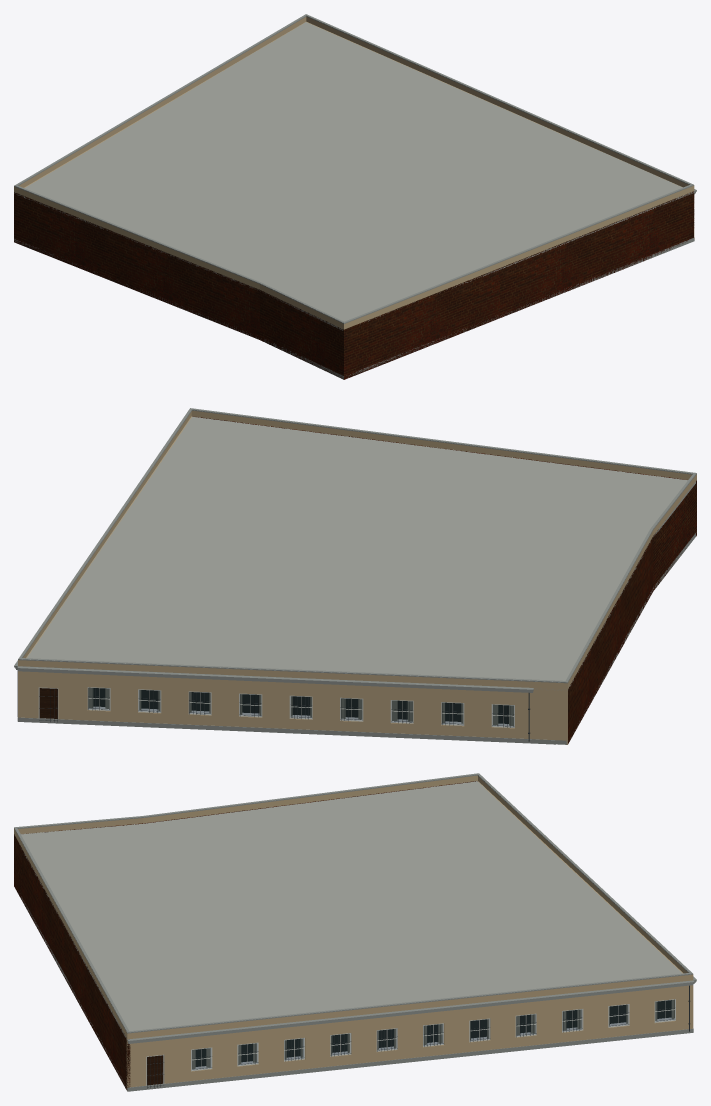
The model's file is building.glb.
3 views of the same model, one above another, from view 1: azimuth 30°, elevation 25°; view 2: azimuth 150°, elevation 25°; view 3: azimuth 270°, elevation 25° (orthographic). The views are drawn at different scales.
Parts seen in each view (by area): view 1: roof/main:0/roof_slab#0001, main:0/edge0/z0/main:0/edge0/z0/wall_0_0, main:0/edge4/z0/main:0/edge4/z0/wall_0_0/core0, roof/main:0/parapet#0001, main:0/edge3/z0/main:0/edge3/z0/wall_0_0, main:0/edge1/z0/main:0/edge1/z0/wall_0_0/core0, roof/main:0/parapet_cap#0002, roof/main:0/parapet_cap#0001, main:0/edge2/z0/main:0/edge2/z0/wall_0_0/core0; view 2: roof/main:0/roof_slab#0001, main:0/edge6/z0/main:0/edge6/z0/wall_0_0/core0, roof/main:0/parapet#0001, main:0/edge0/z0/main:0/edge0/z0/wall_0_0, roof/main:0/parapet_cap#0002, main:0/edge6/z0/plinth#0001, roof/main:0/parapet_cap#0001, main:0/edge1/z0/main:0/edge1/z0/wall_0_0/core0, main:0/edge7/z0/main:0/edge7/z0/wall_0_0, main:0/edge6/z0/proj_cornice_00/cornice_drip#0001, main:0/edge6/z0/proj_cornice_00/cornice_step#0003, main:0/edge6/z0/proj_cornice_00/cornice_step#0001 (+1 smaller); view 3: roof/main:0/roof_slab#0001, roof/main:0/parapet#0001, main:0/edge5/z0/main:0/edge5/z0/wall_0_0/clip29, main:0/edge5/z0/main:0/edge5/z0/wall_0_0/clip3, roof/main:0/parapet_cap#0002, main:0/edge4/z0/main:0/edge4/z0/wall_0_0/core0, main:0/edge5/z0/plinth#0001, main:0/edge3/z0/main:0/edge3/z0/wall_0_0, roof/main:0/parapet_cap#0001, main:0/edge5/z0/proj_cornice_00/cornice_drip#0001, main:0/edge5/z0/proj_cornice_00/cornice_step#0003, main:0/edge5/z0/proj_cornice_00/cornice_step#0001 (+12 smaller).
Part boxes in pixels (bbox=[...]): roof/main:0/roof_slab#0001: bbox=[14, 22, 693, 330]; main:0/edge0/z0/main:0/edge0/z0/wall_0_0: bbox=[14, 192, 259, 339]; main:0/edge4/z0/main:0/edge4/z0/wall_0_0/core0: bbox=[500, 191, 694, 317]; roof/main:0/parapet#0001: bbox=[14, 16, 694, 329]; main:0/edge3/z0/main:0/edge3/z0/wall_0_0: bbox=[368, 268, 499, 369]; main:0/edge1/z0/main:0/edge1/z0/wall_0_0/core0: bbox=[260, 290, 343, 378]; roof/main:0/parapet_cap#0002: bbox=[14, 14, 693, 323]; roof/main:0/parapet_cap#0001: bbox=[14, 16, 694, 323]; main:0/edge2/z0/main:0/edge2/z0/wall_0_0/core0: bbox=[344, 320, 368, 379]; roof/main:0/roof_slab#0001: bbox=[23, 416, 695, 690]; main:0/edge6/z0/main:0/edge6/z0/wall_0_0/core0: bbox=[19, 671, 533, 739]; roof/main:0/parapet#0001: bbox=[18, 410, 696, 689]; main:0/edge0/z0/main:0/edge0/z0/wall_0_0: bbox=[568, 537, 653, 743]; roof/main:0/parapet_cap#0002: bbox=[18, 408, 696, 682]; main:0/edge6/z0/plinth#0001: bbox=[18, 717, 533, 743]; roof/main:0/parapet_cap#0001: bbox=[18, 409, 696, 683]; main:0/edge1/z0/main:0/edge1/z0/wall_0_0/core0: bbox=[653, 484, 695, 590]; main:0/edge7/z0/main:0/edge7/z0/wall_0_0: bbox=[533, 688, 567, 744]; main:0/edge6/z0/proj_cornice_00/cornice_drip#0001: bbox=[17, 666, 533, 690]; main:0/edge6/z0/proj_cornice_00/cornice_step#0003: bbox=[17, 669, 533, 691]; main:0/edge6/z0/proj_cornice_00/cornice_step#0001: bbox=[18, 670, 532, 692]; roof/main:0/roof_slab#0001: bbox=[19, 781, 682, 1039]; roof/main:0/parapet#0001: bbox=[14, 775, 693, 1039]; main:0/edge5/z0/main:0/edge5/z0/wall_0_0/clip29: bbox=[127, 980, 693, 1055]; main:0/edge5/z0/main:0/edge5/z0/wall_0_0/clip3: bbox=[164, 1019, 693, 1083]; roof/main:0/parapet_cap#0002: bbox=[14, 773, 692, 1032]; main:0/edge4/z0/main:0/edge4/z0/wall_0_0/core0: bbox=[64, 926, 127, 1089]; main:0/edge5/z0/plinth#0001: bbox=[127, 1028, 693, 1091]; main:0/edge3/z0/main:0/edge3/z0/wall_0_0: bbox=[21, 848, 64, 976]; roof/main:0/parapet_cap#0001: bbox=[14, 774, 693, 1033]; main:0/edge5/z0/proj_cornice_00/cornice_drip#0001: bbox=[127, 980, 694, 1041]; main:0/edge5/z0/proj_cornice_00/cornice_step#0003: bbox=[127, 982, 694, 1042]; main:0/edge5/z0/proj_cornice_00/cornice_step#0001: bbox=[128, 984, 693, 1043].
Bounding box in the file's own units: 39.56 × 4.17 × 43.73.
10 materials, 2 textured.
